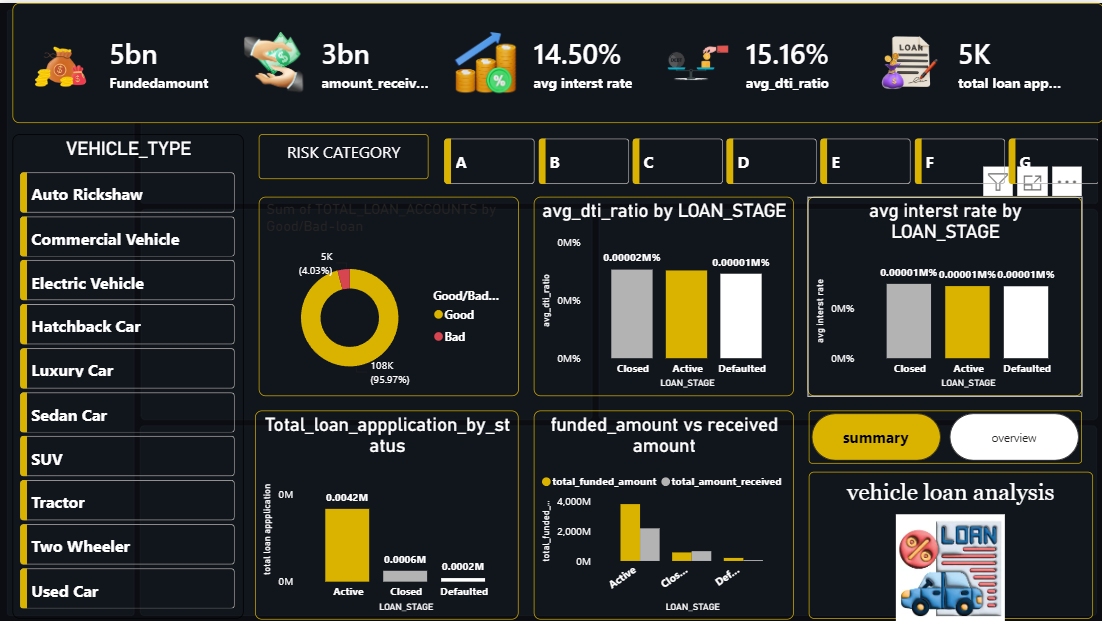

This screenshot's page, from the dashboard's own definition file:
{"tool":"powerbi","page":{"name":"summary","canvas":[1280,720],"ordinal":0},"visuals":[{"type":"cardVisual","fields":{"Data":["Vehicle_Loan_Data.total_funded_amount","Vehicle_Loan_Data.total_amount_received","Vehicle_Loan_Data.avg interst rate","Vehicle_Loan_Data.avg_dti","Vehicle_Loan_Data.total loan appplication"]},"box":[14.1,0,1266.2,139.4],"z":0},{"type":"donutChart","fields":{"Category":["Vehicle_Loan_Data.Good/Bad-loan"],"Y":["Sum(Vehicle_Loan_Data.TOTAL_LOAN_ACCOUNTS)"]},"box":[300,225.4,301.4,231],"z":1000},{"type":"clusteredColumnChart","title":"funded_amount vs received amount","fields":{"Category":["Vehicle_Loan_Data.LOAN_STAGE"],"Y":["Vehicle_Loan_Data.total_funded_amount","Vehicle_Loan_Data.total_amount_received"]},"box":[618.3,471.8,301.4,242.3],"z":2000},{"type":"columnChart","title":"Total_loan_appplication_by_status","fields":{"Category":["Vehicle_Loan_Data.LOAN_STAGE"],"Y":["Vehicle_Loan_Data.total loan appplication"]},"box":[295.8,471.8,305.6,242.3],"z":3000},{"type":"clusteredColumnChart","fields":{"Category":["Vehicle_Loan_Data.LOAN_STAGE"],"Y":["Vehicle_Loan_Data.avg interst rate"]},"box":[936.6,225.4,318.3,231],"z":4000},{"type":"clusteredColumnChart","fields":{"Category":["Vehicle_Loan_Data.LOAN_STAGE"],"Y":["Vehicle_Loan_Data.avg_dti_ratio"]},"box":[618.3,225.4,301.4,231],"z":5000},{"type":"advancedSlicerVisual","fields":{"Values":["Vehicle_Loan_Data.VEHICLE_TYPE"]},"box":[14.1,152.1,267.6,562],"z":6000},{"type":"advancedSlicerVisual","fields":{"Values":["Vehicle_Loan_Data.RISK_CATEGORY"]},"box":[509.9,152.1,770.4,63.4],"z":7000},{"type":"textbox","box":[938,543.7,329.6,170.4],"z":8000},{"type":"pageNavigator","box":[938,471.8,316.9,62],"z":9000},{"type":"textbox","box":[300,152.1,197.2,52.1],"z":10000},{"type":"image","box":[966.2,593,270.4,126.8],"z":11000}]}

Visuals, with their boxes in screenshot pixels (x1, y1, x2, y2), scaled from the page's 1280x720 canvas onto the 1102x621 screenshot:
cardVisual - Vehicle_Loan_Data.total_funded_amount x Vehicle_Loan_Data.total_amount_received: 12,0,1101,120
donutChart - Vehicle_Loan_Data.Good/Bad-loan x Sum(Vehicle_Loan_Data.TOTAL_LOAN_ACCOUNTS): 258,194,518,394
"funded_amount vs received amount" clusteredColumnChart: 532,407,792,616
"Total_loan_appplication_by_status" columnChart: 255,407,518,616
clusteredColumnChart - Vehicle_Loan_Data.LOAN_STAGE x Vehicle_Loan_Data.avg interst rate: 806,194,1080,394
clusteredColumnChart - Vehicle_Loan_Data.LOAN_STAGE x Vehicle_Loan_Data.avg_dti_ratio: 532,194,792,394
advancedSlicerVisual - Vehicle_Loan_Data.VEHICLE_TYPE: 12,131,243,616
advancedSlicerVisual - Vehicle_Loan_Data.RISK_CATEGORY: 439,131,1101,186
textbox: 808,469,1091,616
pageNavigator: 808,407,1080,460
textbox: 258,131,428,176
image: 832,511,1065,620
